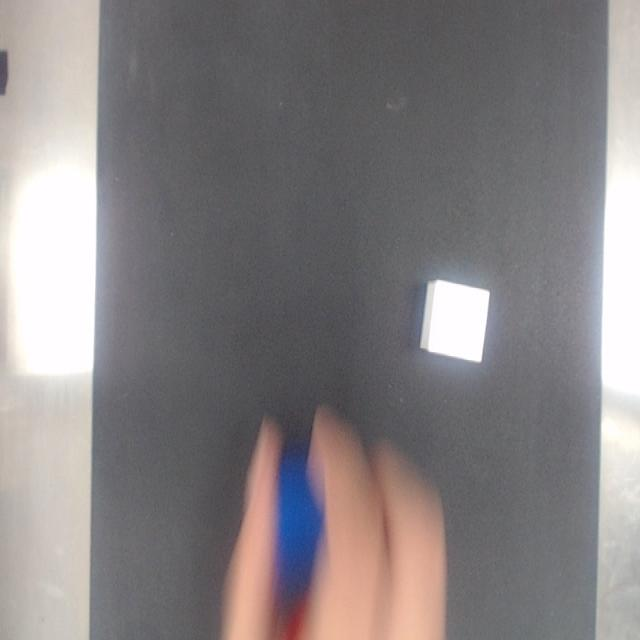Blanco: (420, 280, 489, 361)
